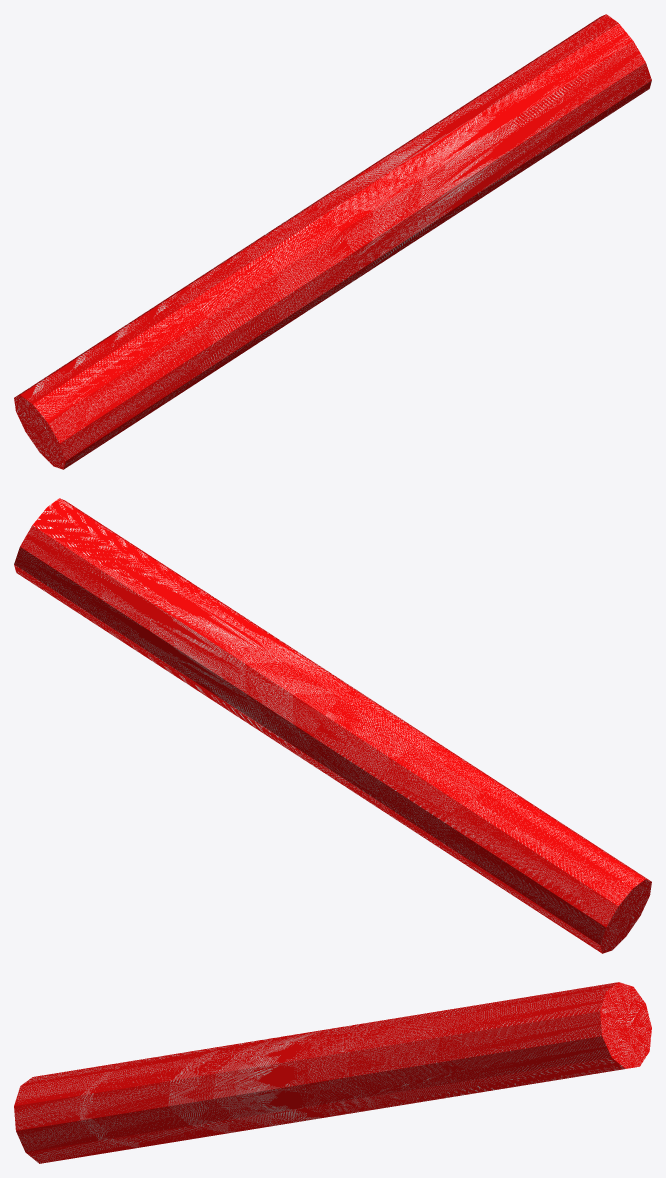
The model's file is bugtrap_robot.dae.
The picture shows the model from 3 angles, top to bottom: view 1: azimuth 30°, elevation 25°; view 2: azimuth 150°, elevation 25°; view 3: azimuth 330°, elevation 25°; orthographic projection.
Visible parts, largest first — view 1: instance_1; view 2: instance_1; view 3: instance_1.
Boxes of the visible parts, x1,y1,x2,y2 form: instance_1: (14,14,651,469); instance_1: (14,498,651,953); instance_1: (14,982,651,1163).
Size of the model in its own units: 11.53 by 1.43 by 5.59.
